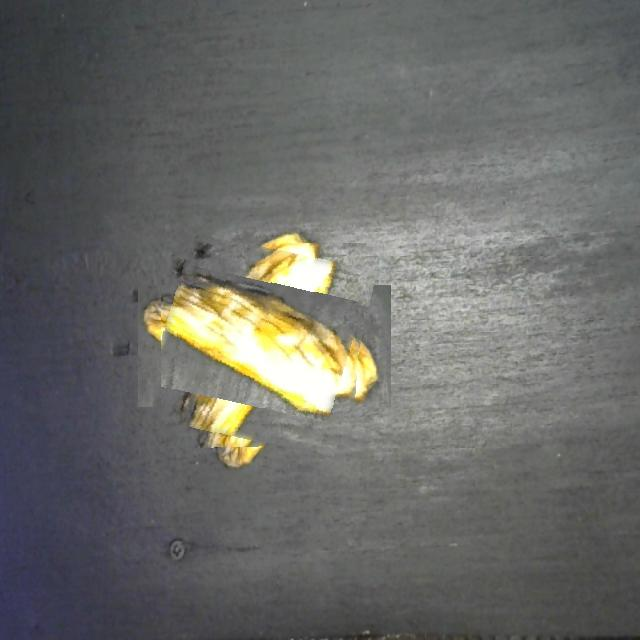biodegradable: (161, 243, 367, 449)
